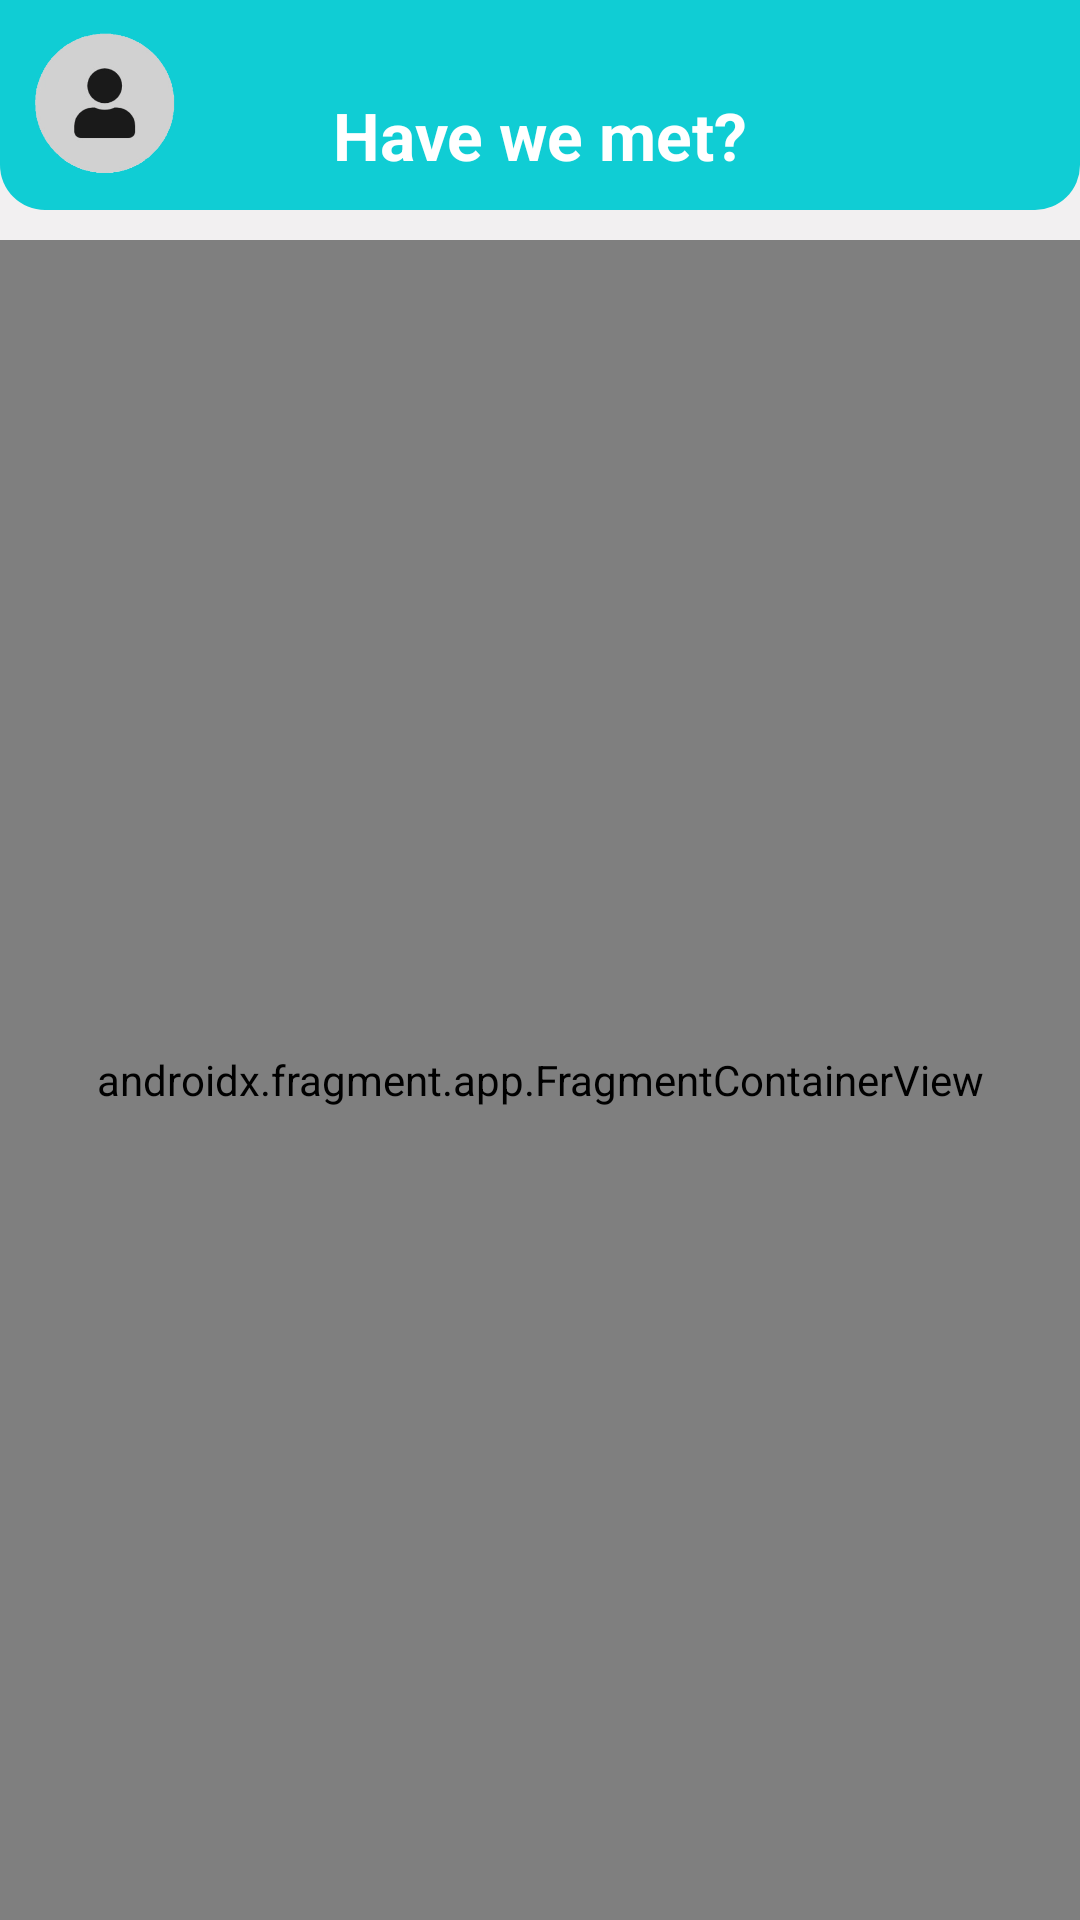

Where to tap for icons on this 1080x1920 app screen, as point (x, y):
person unknown: point (104, 103)
